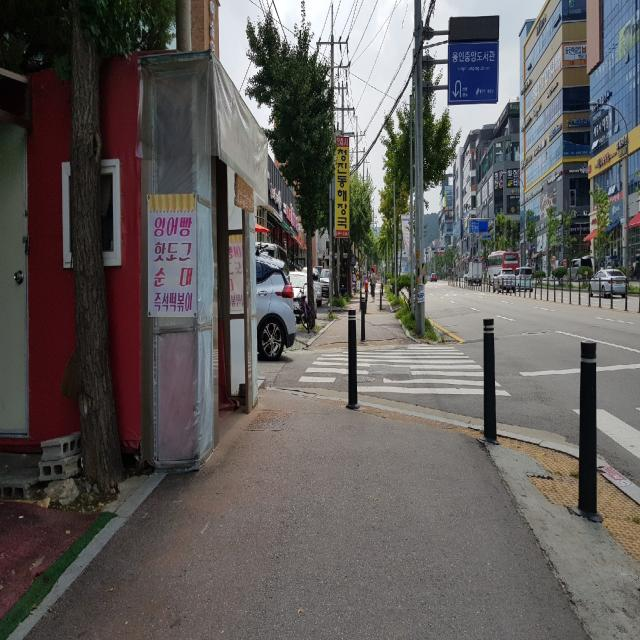횡단보도: (297, 345, 512, 398)
